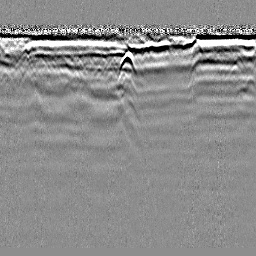cavity: (117, 50, 138, 77)
